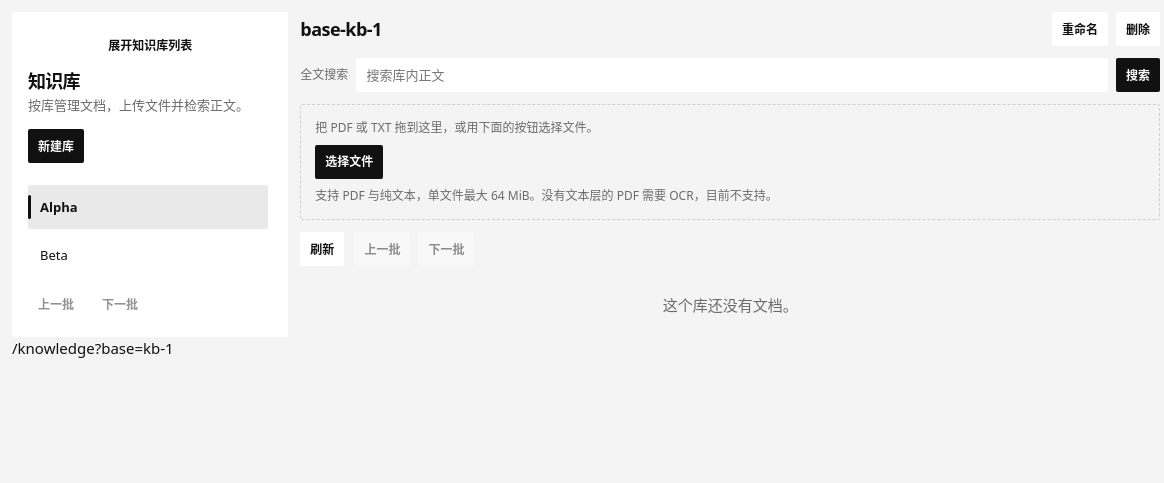
Test: KnowledgePage › keeps the base that the user selected while a rename of another is slow
This screenshot has width=1164, height=483.
Click the button "重命名". click: (1080,29)
box: [1052,12,1108,46]
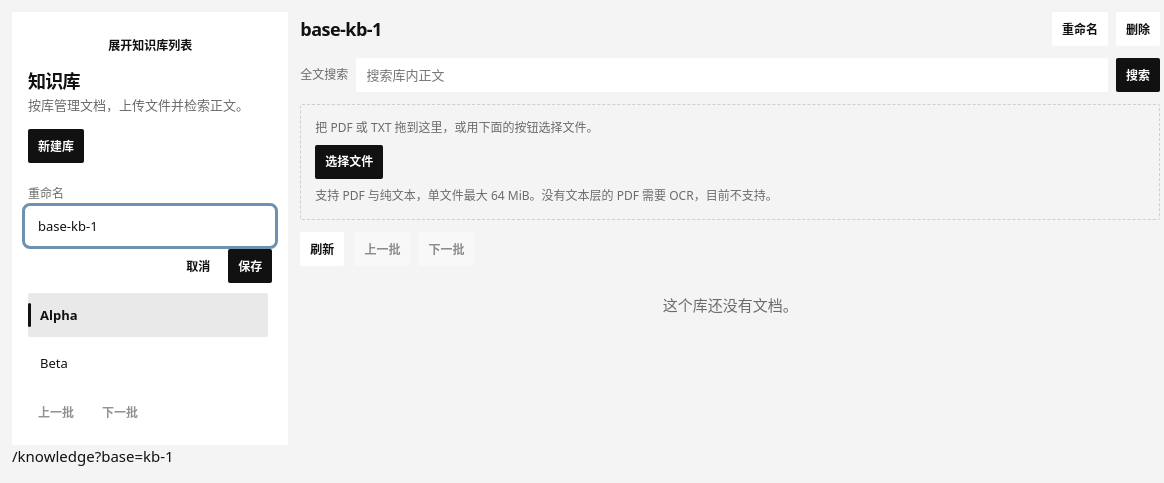
Replace the text in the field labelled "重命名" with "Alpha 2". click: (150,226)
box: [28,209,272,243]
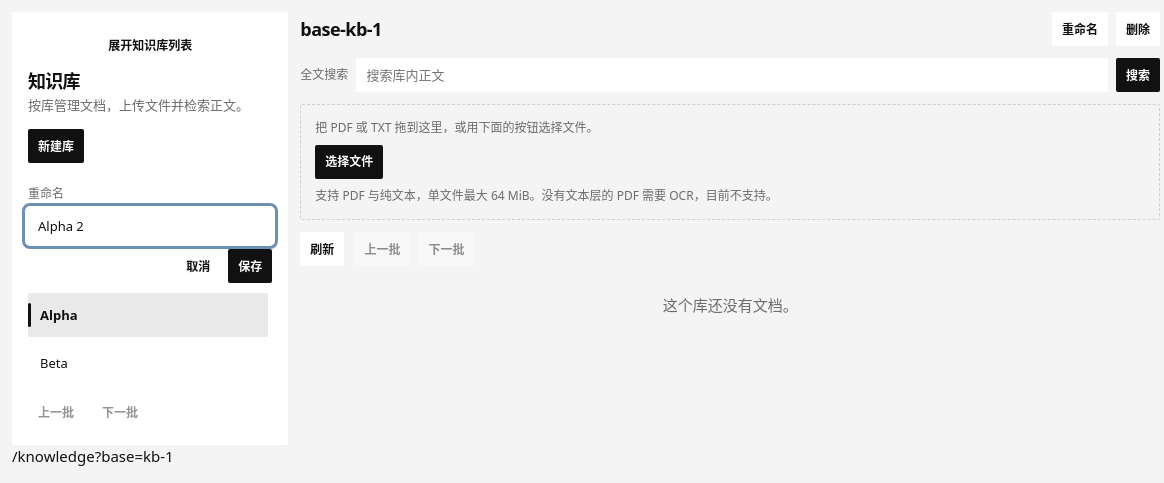
Click the button "保存". click: (250,266)
box: [228,249,272,283]
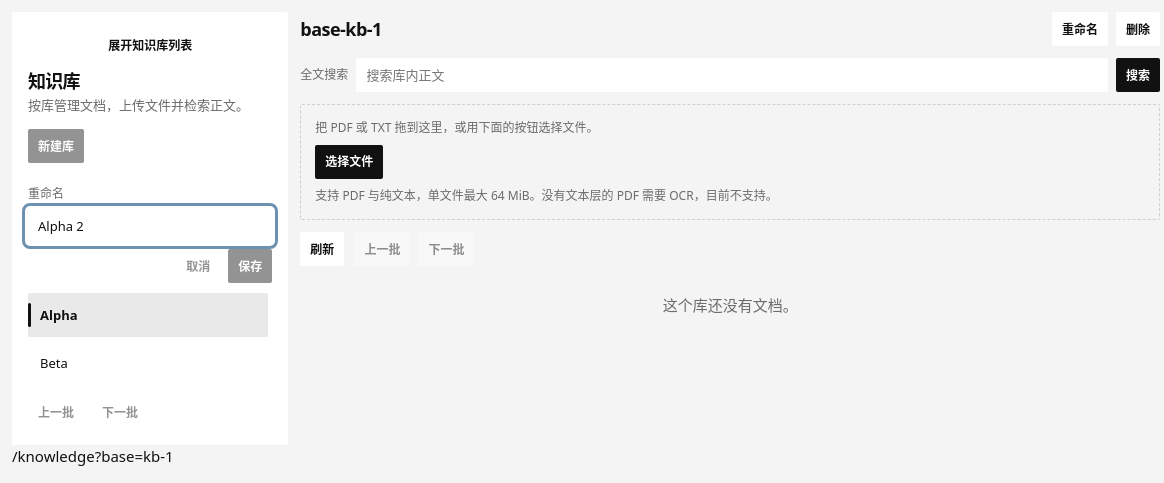
The user moves to B while the PATCH of A is still in flight.
Click the button "Beta". click: (148,363)
box: [28,341,268,385]
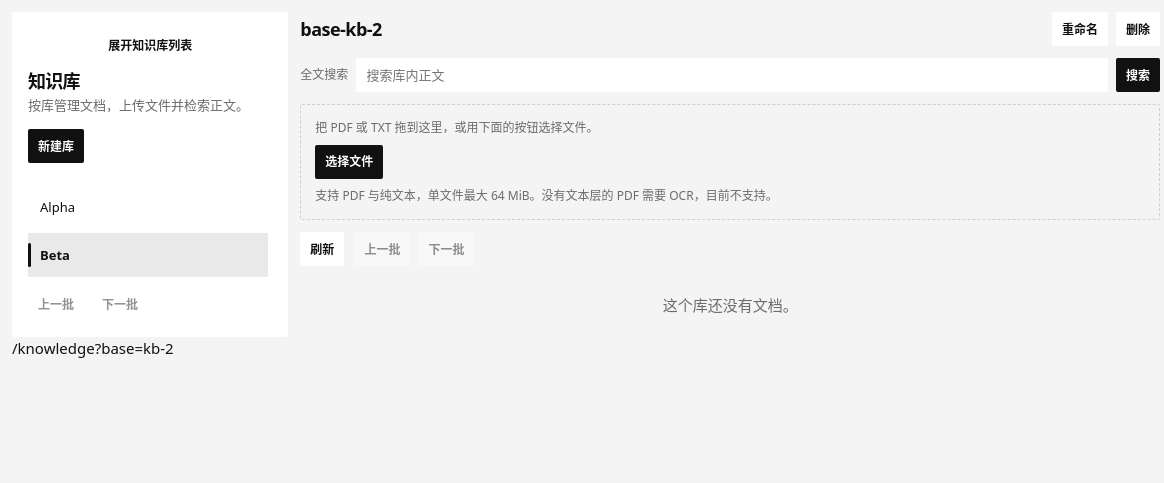
Expected: the button "Alpha 2" is not shown
Expected: the text with test id "location" shows "base=kb-2", [12,338,174,358]
